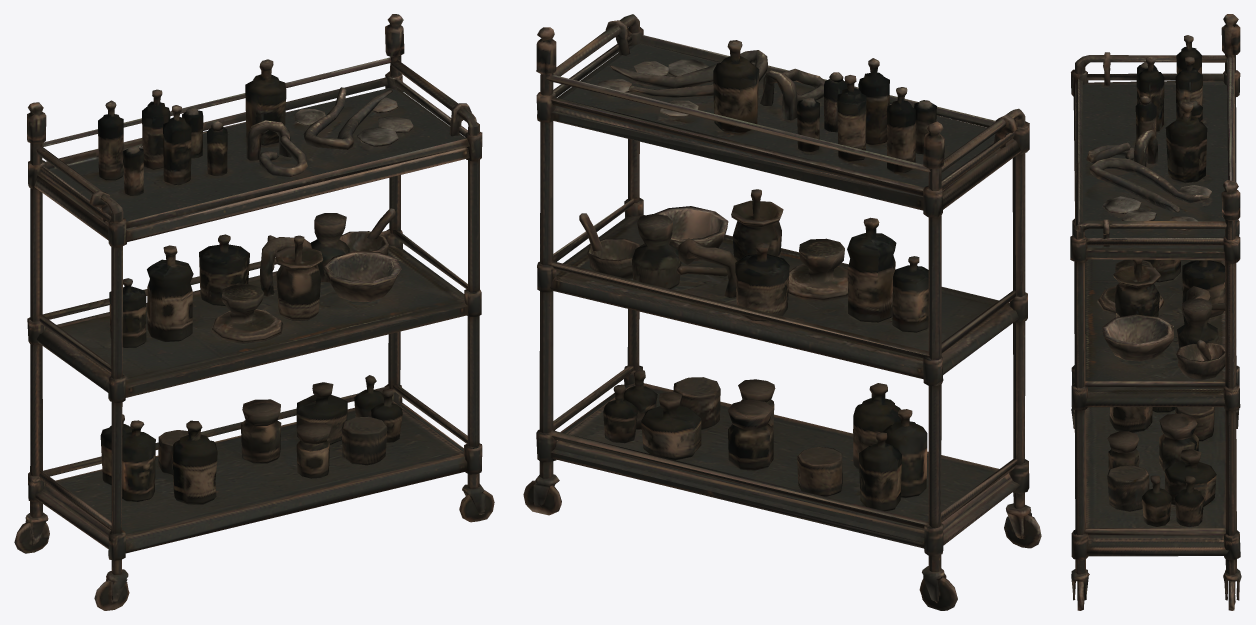
The model's file is drug_storage_shelf.fbx.
3 views of the same model, side by side, from view 1: azimuth 30°, elevation 25°; view 2: azimuth 150°, elevation 25°; view 3: azimuth 270°, elevation 25° (orthographic). The views are drawn at different scales.
Visible parts, largest first — view 1: mesh_node; view 2: mesh_node; view 3: mesh_node.
Boxes of the visible parts, box(x1,y1,x2,y2) form: mesh_node: box(14, 14, 494, 610); mesh_node: box(523, 14, 1041, 610); mesh_node: box(1070, 14, 1241, 610).
Size of the model in its own units: 92.38 by 100 by 36.04.
Materials: 1 (1 with a texture image).
